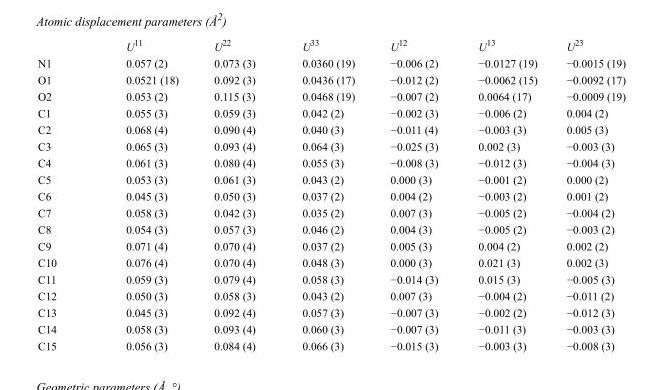table: (37, 37, 624, 351)
table column: (90, 37, 195, 351), (457, 37, 551, 351), (278, 37, 371, 351), (371, 37, 457, 351), (195, 37, 278, 351), (551, 37, 624, 351), (37, 37, 90, 351)
table column header: (37, 37, 624, 54)
table row: (37, 37, 624, 54), (37, 54, 624, 71), (37, 87, 624, 104), (37, 120, 624, 137), (37, 137, 624, 154), (37, 170, 624, 187), (37, 187, 624, 204), (37, 220, 624, 237), (37, 253, 624, 270), (37, 270, 624, 287), (37, 303, 624, 320), (37, 320, 624, 337), (37, 71, 624, 87), (37, 104, 624, 120), (37, 154, 624, 170), (37, 204, 624, 220), (37, 237, 624, 253), (37, 287, 624, 303), (37, 337, 624, 351)
